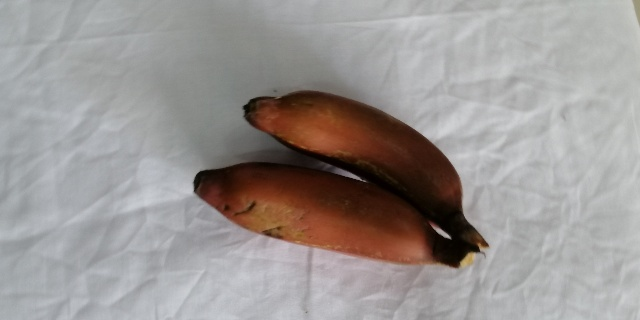banana_red: (244, 90, 490, 253), (191, 162, 477, 269)
